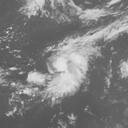cyclone: (40, 40, 90, 102)
